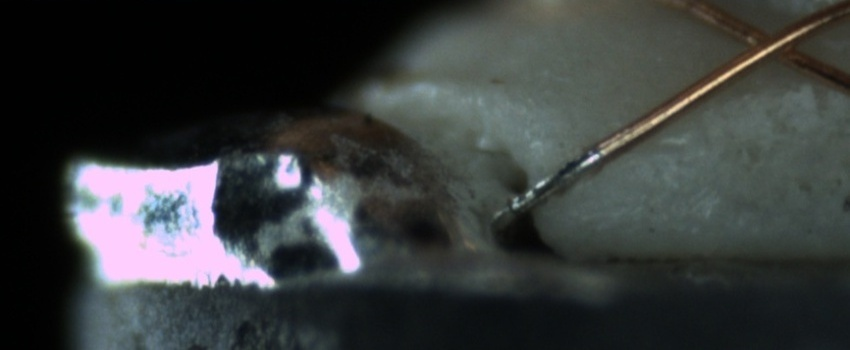CL: (720, 9, 823, 76)
DL: (605, 125, 691, 176)
TS: (503, 147, 602, 215)
